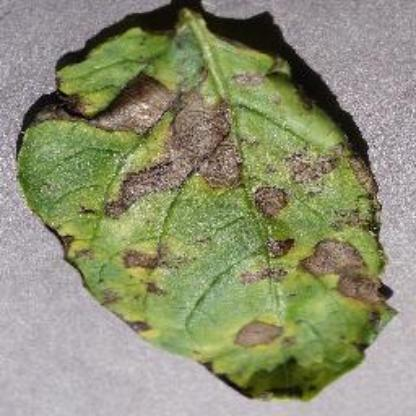Early-Blight: (15, 8, 400, 406)
